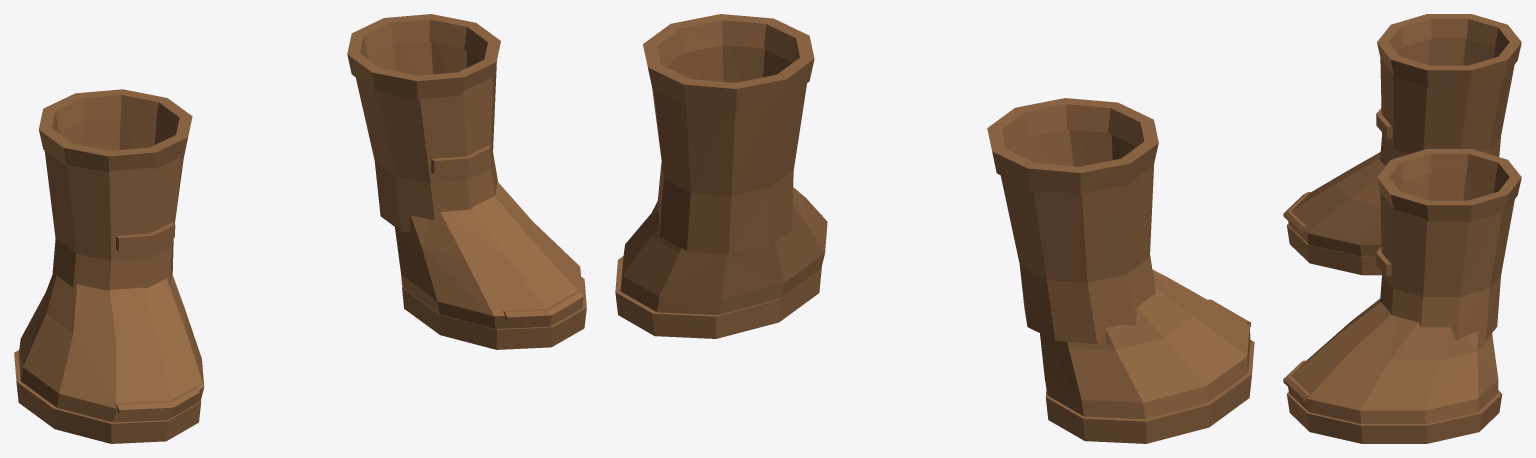
The model's file is leather_feet-female.glb.
3 renders of one model, left to right at view 1: azimuth 30°, elevation 25°; view 2: azimuth 150°, elevation 25°; view 3: azimuth 270°, elevation 25°, orthographic. The views are drawn at different scales.
Parts seen in each view (by area): view 1: leather boot foot -1, leather boot foot 1, leather boot upper 1, leather boot upper -1, Turned boot cuff 1, Turned boot cuff -1, Boot sole -1, Boot sole 1, Boot ankle strap 1, Boot ankle strap -1, Boot toe welt -1, Boot toe welt 1; view 2: leather boot upper 1, leather boot upper -1, leather boot foot -1, leather boot foot 1, Turned boot cuff 1, Turned boot cuff -1, Boot sole -1, Boot sole 1; view 3: leather boot foot 1, leather boot upper 1, leather boot upper -1, Turned boot cuff -1, Turned boot cuff 1, leather boot foot -1, Boot sole 1, Boot sole -1, Boot toe welt 1, Boot toe welt -1, Boot ankle strap -1, Boot ankle strap 1.
Part boxes in pixels (<box>): leather boot foot -1: <box>18,273,204,422</box>; leather boot foot 1: <box>395,181,582,329</box>; leather boot upper 1: <box>355,42,497,232</box>; leather boot upper -1: <box>44,112,183,290</box>; Turned boot cuff 1: <box>347,14,500,99</box>; Turned boot cuff -1: <box>38,89,192,171</box>; Boot sole -1: <box>14,350,201,443</box>; Boot sole 1: <box>401,275,586,349</box>; Boot ankle strap 1: <box>431,145,490,173</box>; Boot ankle strap -1: <box>116,222,175,251</box>; Boot toe welt -1: <box>114,386,199,413</box>; Boot toe welt 1: <box>503,289,583,320</box>; leather boot upper 1: <box>652,45,806,254</box>; leather boot upper -1: <box>1000,129,1155,343</box>; leather boot foot -1: <box>1040,269,1250,419</box>; leather boot foot 1: <box>620,187,827,314</box>; Turned boot cuff 1: <box>643,14,814,109</box>; Turned boot cuff -1: <box>987,98,1158,193</box>; Boot sole -1: <box>1045,340,1254,443</box>; Boot sole 1: <box>615,256,821,338</box>; leather boot foot 1: <box>1288,299,1498,423</box>; leather boot upper 1: <box>1380,173,1514,341</box>; leather boot upper -1: <box>1380,39,1514,165</box>; Turned boot cuff -1: <box>1377,14,1521,87</box>; Turned boot cuff 1: <box>1377,149,1521,221</box>; leather boot foot -1: <box>1288,152,1385,256</box>; Boot sole 1: <box>1287,390,1502,443</box>; Boot sole -1: <box>1287,223,1381,275</box>; Boot toe welt 1: <box>1283,360,1312,401</box>; Boot toe welt -1: <box>1283,192,1310,232</box>; Boot ankle strap -1: <box>1376,108,1392,138</box>; Boot ankle strap 1: <box>1376,247,1391,276</box>.
Bounding box in the file's own units: 2.64 × 1.16 × 1.15.
